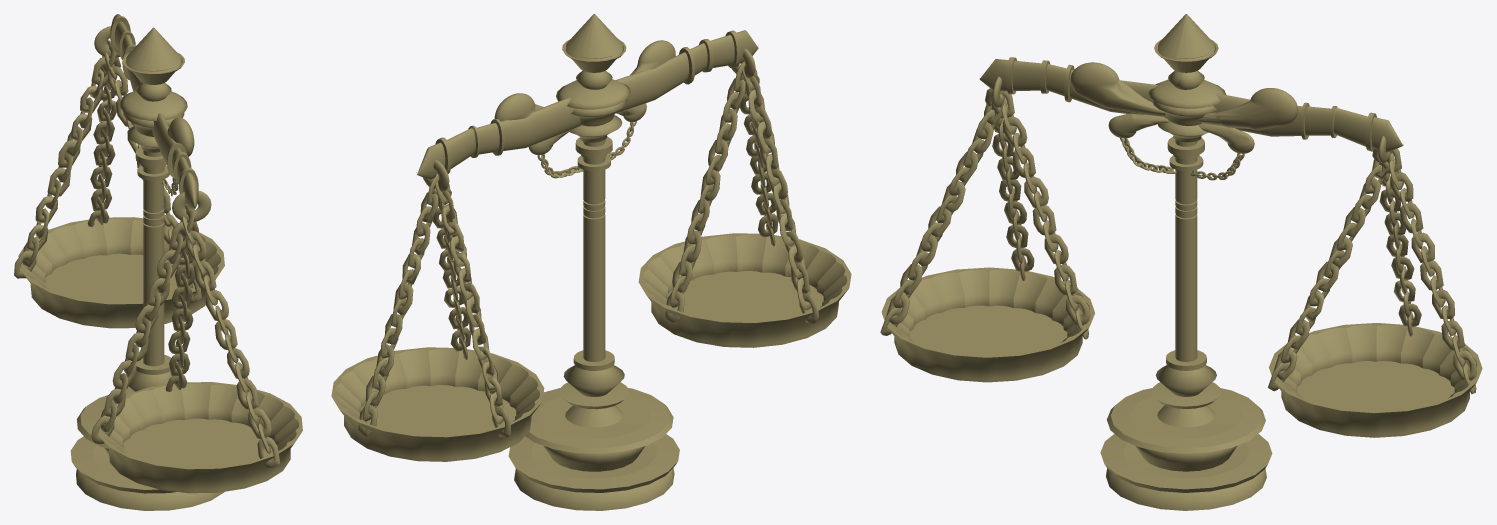
File: scale_updated.fbx
The picture shows the model from 3 angles, left to right: view 1: azimuth 30°, elevation 25°; view 2: azimuth 150°, elevation 25°; view 3: azimuth 270°, elevation 25°; orthographic projection. The views are drawn at different scales.
Parts seen in each view (by area): view 1: polySurface46, polySurface44, polySurface45; view 2: polySurface46, polySurface45, polySurface44; view 3: polySurface46, polySurface45, polySurface44.
Boxes of the visible parts, x1,y1,x2,y2 form: polySurface46: (14,14,280,510); polySurface44: (96,382,302,493); polySurface45: (18,217,224,328); polySurface46: (357,14,818,510); polySurface45: (331,347,544,461); polySurface44: (638,233,851,347); polySurface46: (880,14,1476,510); polySurface45: (1269,323,1482,437); polySurface44: (881,267,1094,382).
Bounding box in the file's own units: 42.44 × 62.82 × 74.12.
